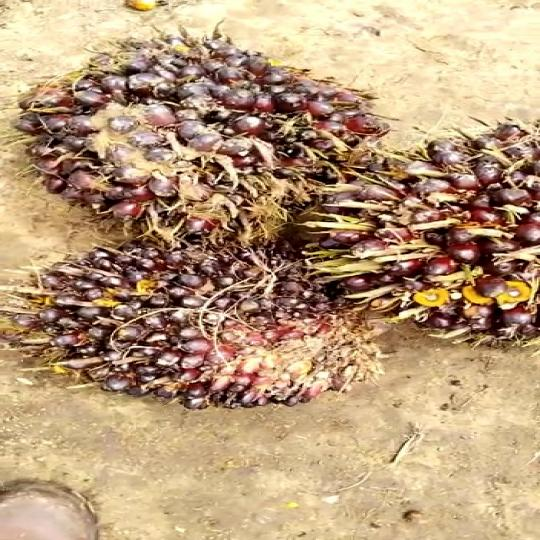kurang masak: (14, 31, 362, 245), (23, 247, 394, 429), (309, 114, 540, 355)
